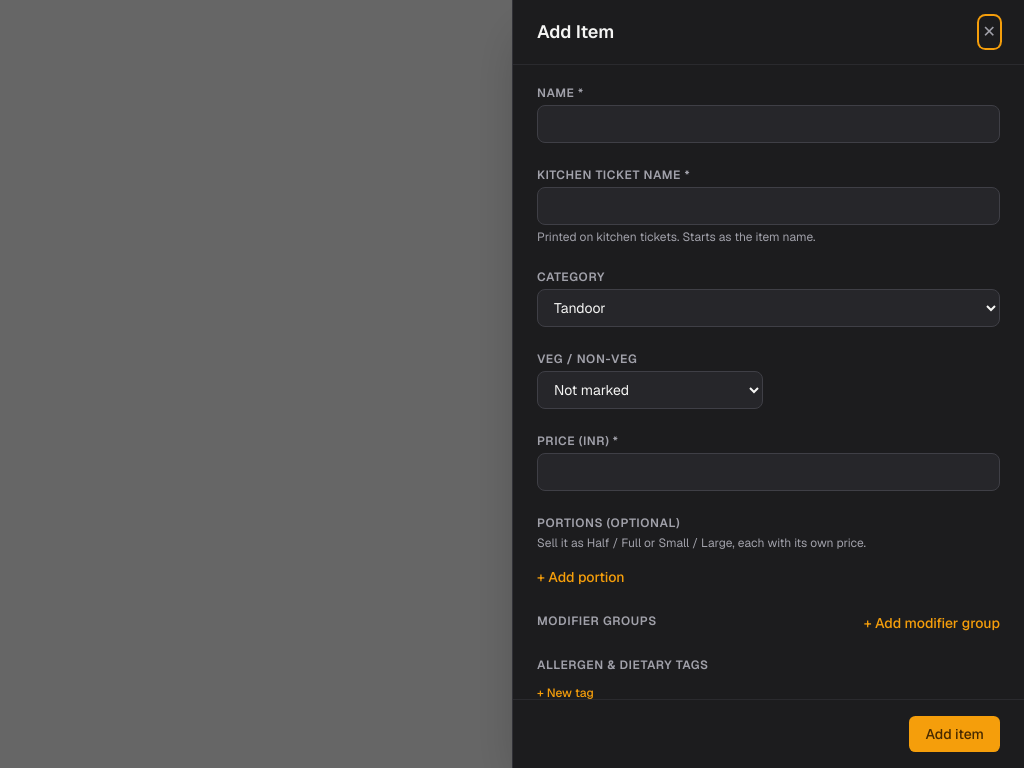
Test: ItemDrawer open/close and field editing › says a new item needs a price, and that a negative one is not allowed (PE-13)
This screenshot has width=1024, height=768.
Type "Malai Tikka" into the field with test id "item-name-input".
click(768, 124); type("Malai Tikka")  # box [537,105,1000,143]
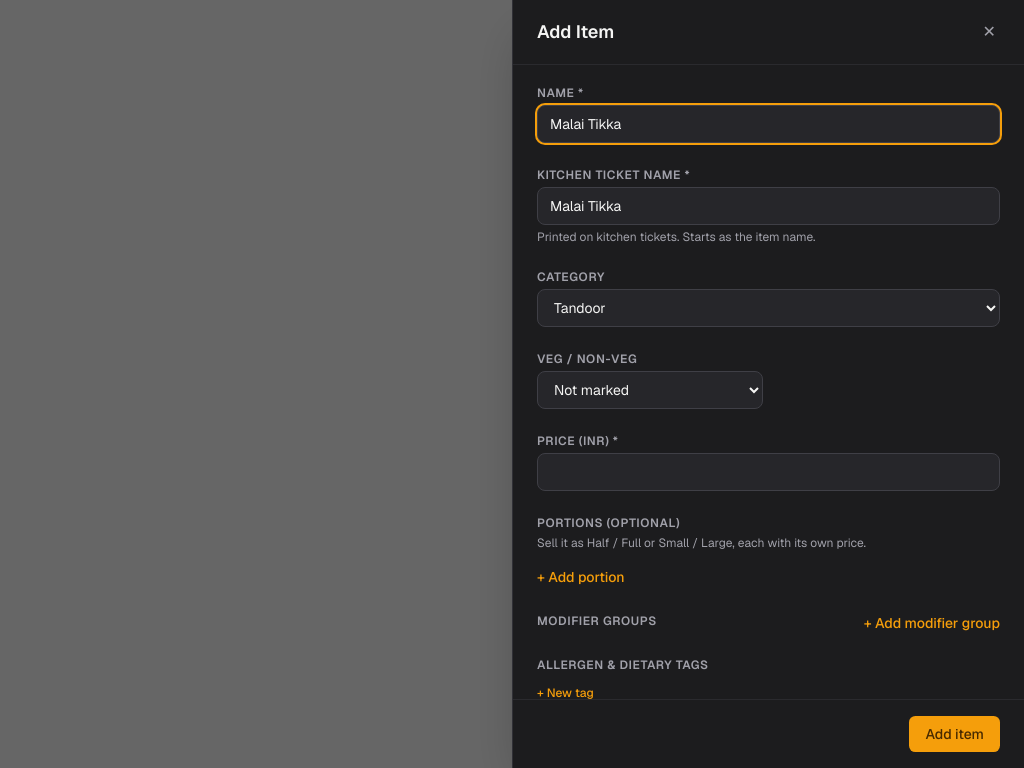
Click the button with test id "item-save".
click(955, 734)  # box [909,716,1000,752]
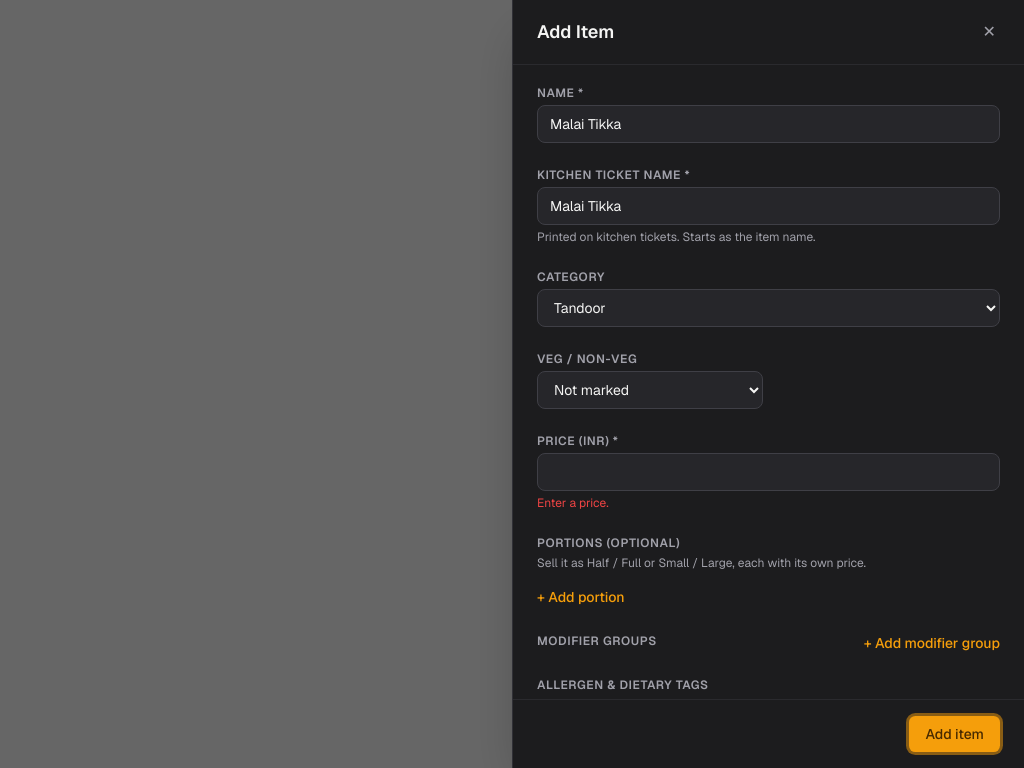
Expected: the text with test id "item-create-price-error" reads "Enter a price.", [537,495,609,511]
Type "-5" into the number field with test id "item-create-price".
click(768, 472); type("-5")  # box [537,453,1000,491]
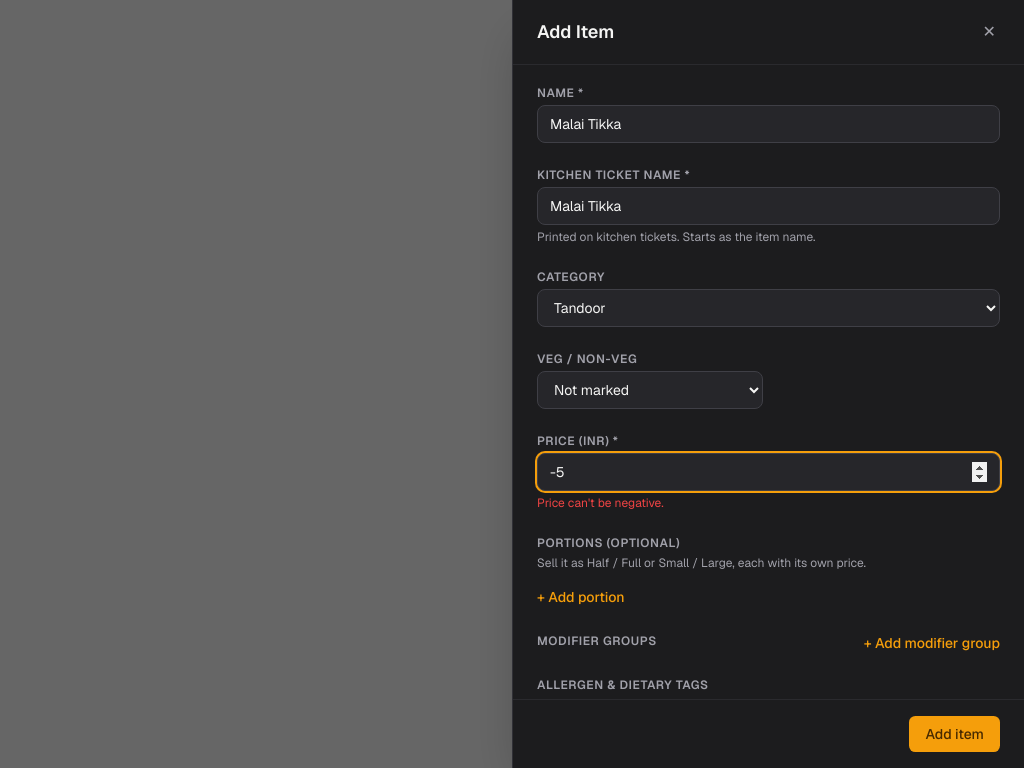
Expected: the text with test id "item-create-price-error" reads "Price can't be negative.", [537,495,664,511]
